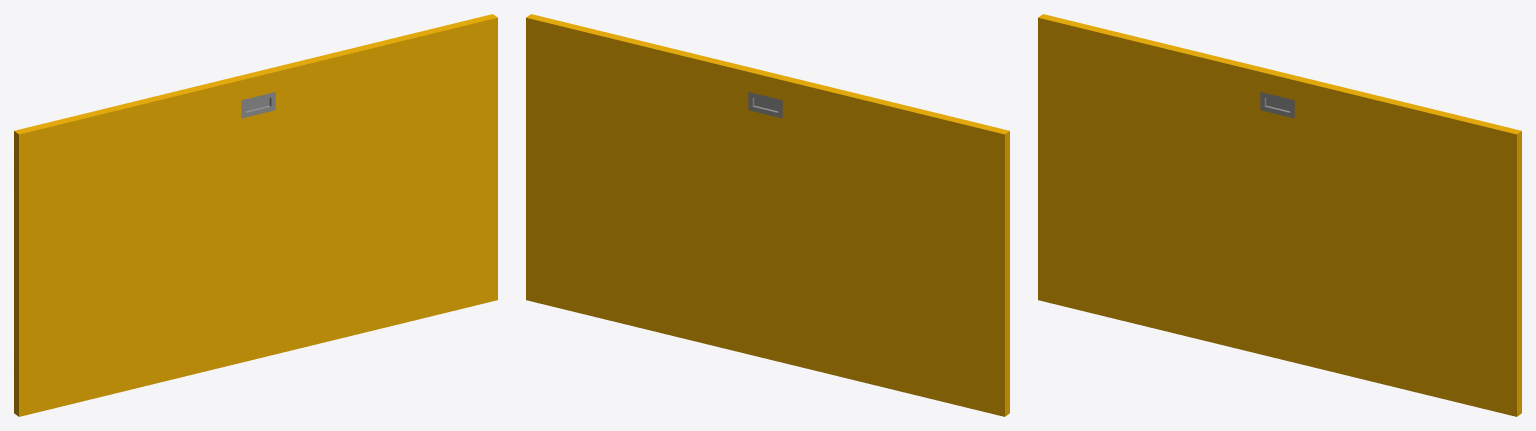
The model's file is door_manual_flush_7x3_dynamic.dae.
3 views of the same model, side by side, from view 1: azimuth 30°, elevation 25°; view 2: azimuth 150°, elevation 25°; view 3: azimuth 330°, elevation 25° (orthographic).
Visible parts, largest first — view 1: Cube; view 2: Cube; view 3: Cube.
Part boxes in pixels (x1,y1,x2,y2): Cube: (14,14,497,416); Cube: (526,14,1009,416); Cube: (1038,14,1521,416).
Bounding box in the file's own units: 1.72 × 0.0312 × 0.9688.
